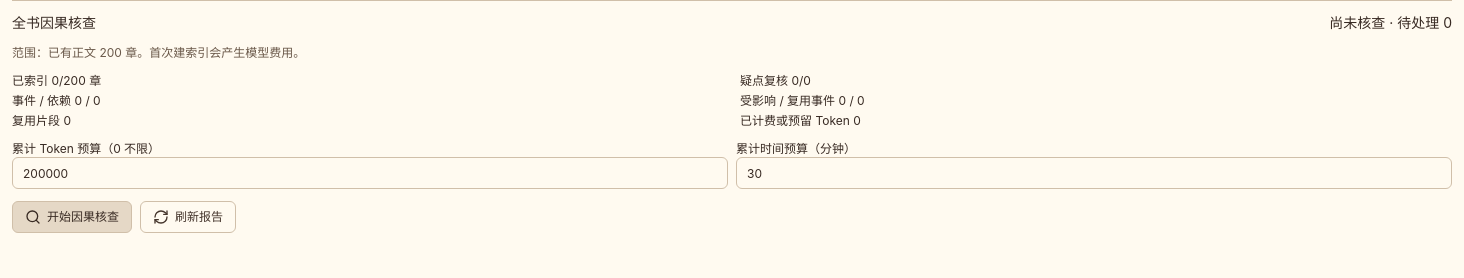
it: requires consent before the first paid full-book audit
The image size is (1464, 278).
Click the button "开始因果核查" at {"x": 72, "y": 217}, box [12, 201, 132, 233]
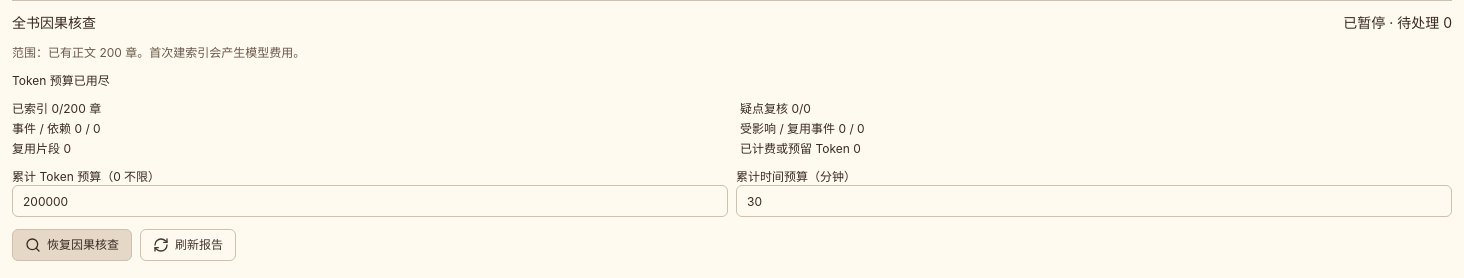
Now the text "Token 预算已用尽" is shown, box [12, 73, 110, 88]
